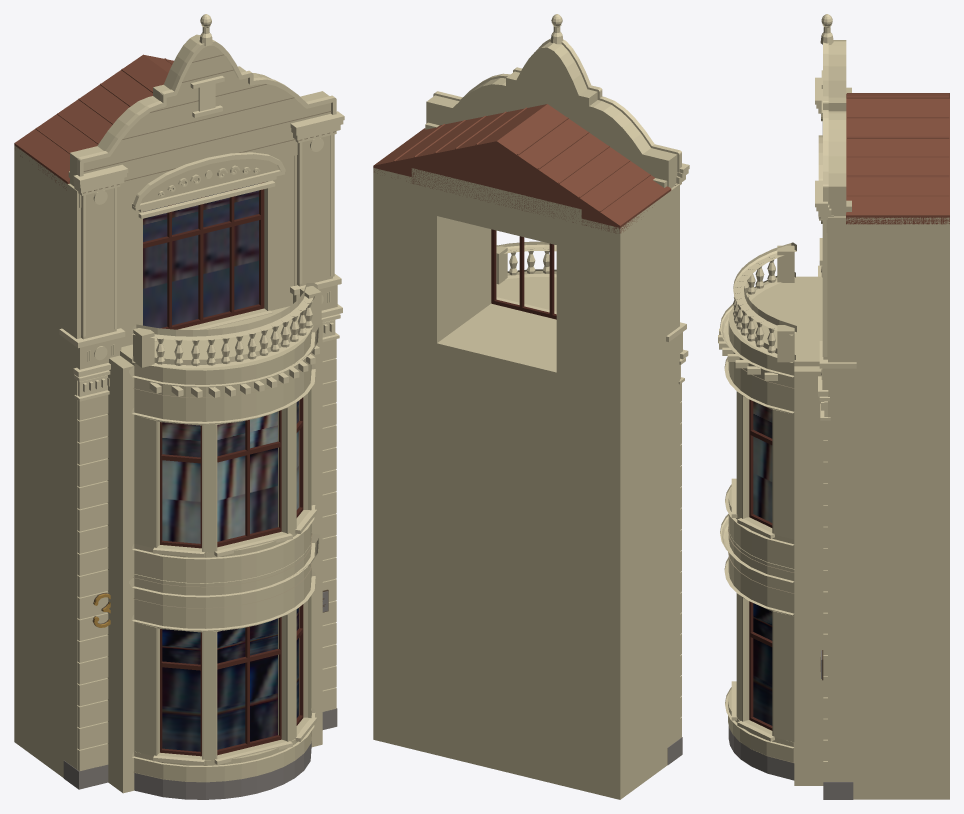
The model's file is jingan-eye-hospital-building-three-front-lod.glb.
3 renders of one model, left to right at view 1: azimuth 30°, elevation 25°; view 2: azimuth 150°, elevation 25°; view 3: azimuth 270°, elevation 25°, orthographic. The views are drawn at different scales.
Parts seen in each view (by area): view 1: 市眼科医院3号楼西南弧窗与山墙; view 2: 市眼科医院3号楼西南弧窗与山墙; view 3: 市眼科医院3号楼西南弧窗与山墙.
Boxes of the visible parts, x1=… form: 市眼科医院3号楼西南弧窗与山墙: x1=14, y1=14, x2=344, y2=799; 市眼科医院3号楼西南弧窗与山墙: x1=373, y1=14, x2=689, y2=799; 市眼科医院3号楼西南弧窗与山墙: x1=718, y1=14, x2=949, y2=799.
Bounding box in the file's own units: 6.65 × 17.84 × 5.17.
13 materials, 5 textured.
